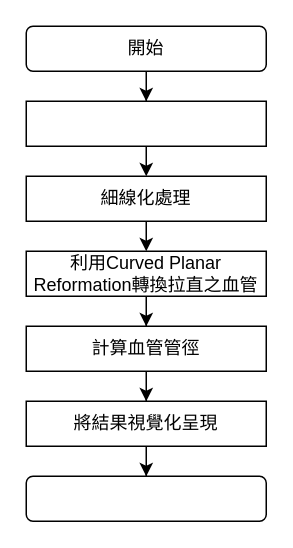
Image size: 293x548. Some labels were removed from this diagram. Here are the shapes that lost their labels. From the top down, the box of each, then its label:
(25, 100, 266, 146): 冠狀動脈分割
(25, 475, 266, 521): 結束
